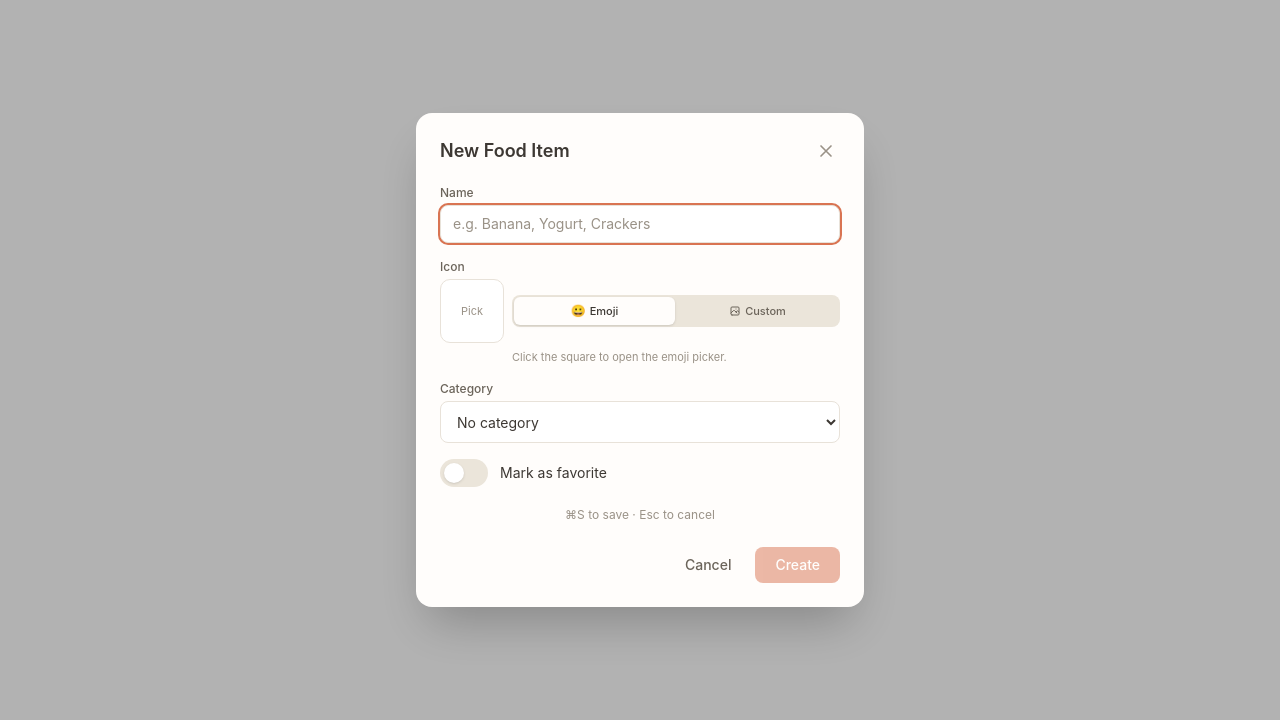
Test: ItemFormModal › food_item variant (mockup emoji-icon-xor-option-d) › focuses the first invalid field on 422 error
This screenshot has width=1280, height=720.
Type a name so we pass the client-side guard
In the field with placeholder "e.g. Banana, Yogurt, Crackers": (640, 224) [440,205,840,243], type "Test"
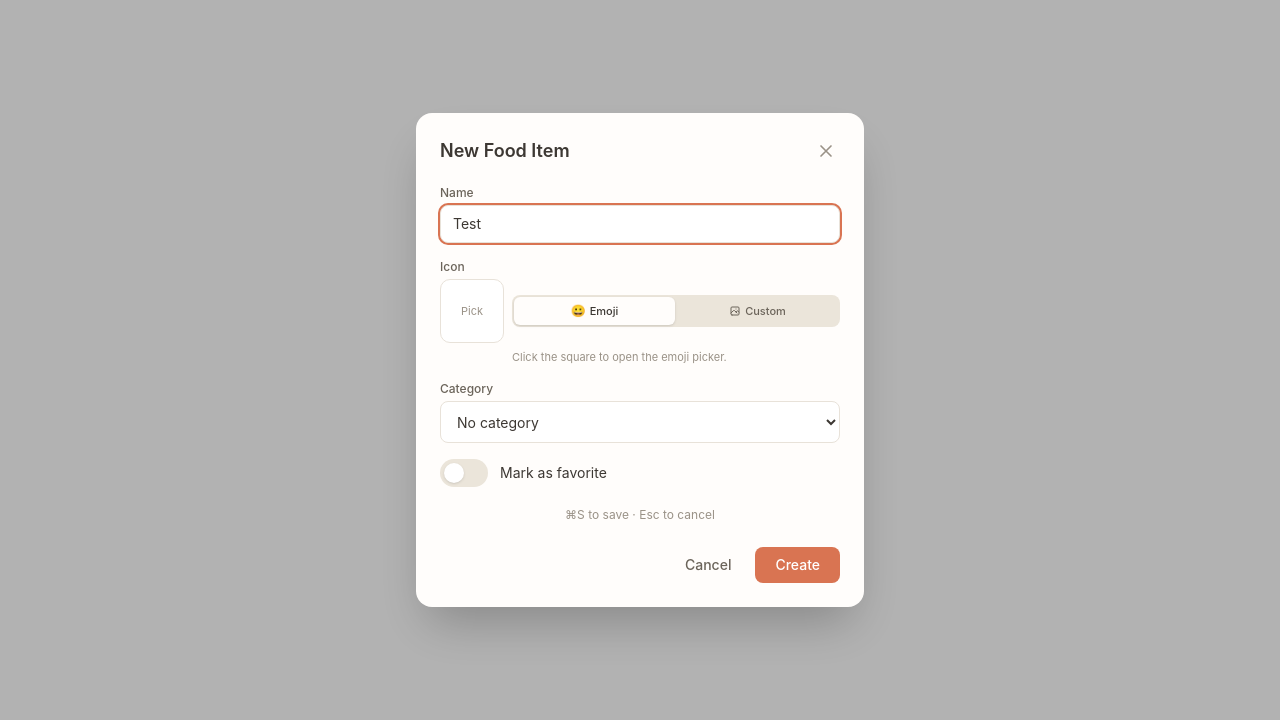
Click the button "Create": (798, 565) [755,547,840,583]
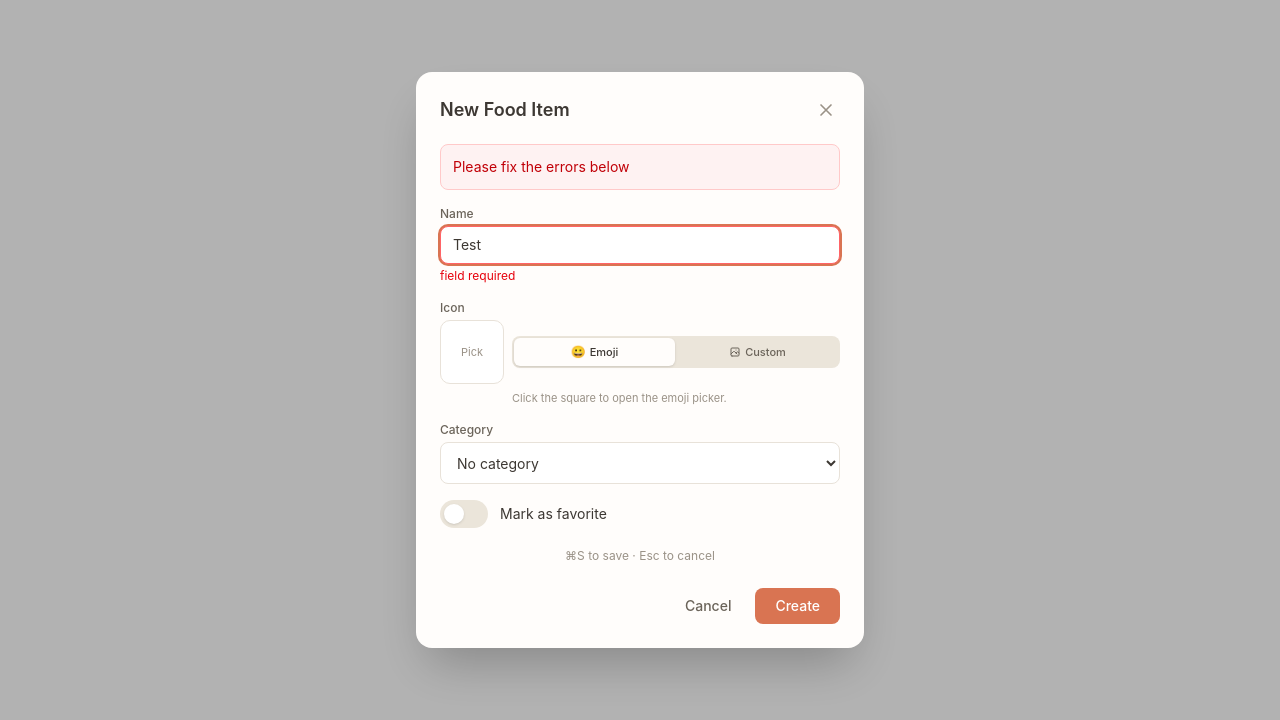
Expected: the text "Please fix the errors below" is shown, [440,144,840,190]
Expected: the text "field required" is shown, [440,268,515,283]
